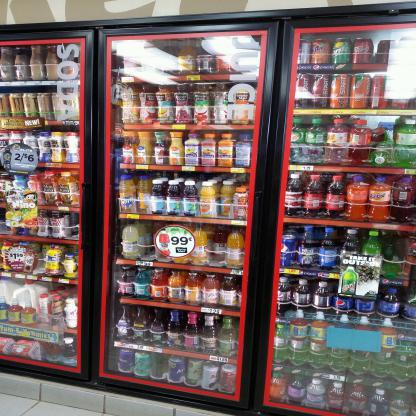Void: (211, 231, 226, 267), (147, 226, 156, 258)
